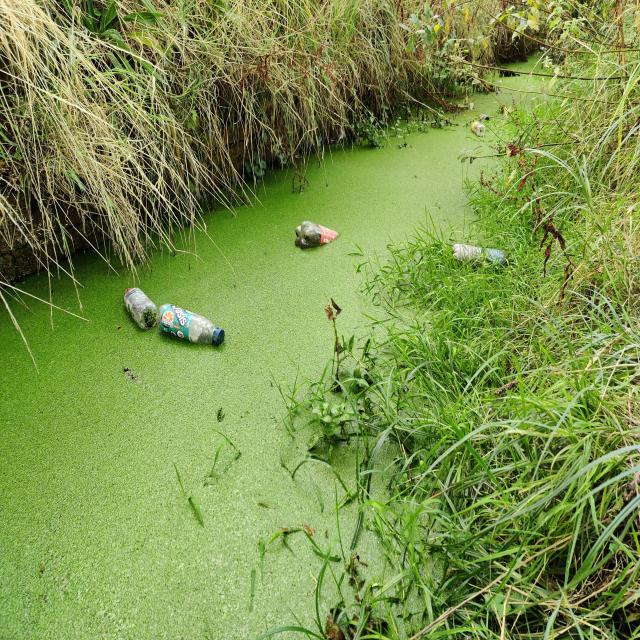litter: (108, 259, 240, 361), (285, 200, 348, 259), (444, 237, 515, 280)
